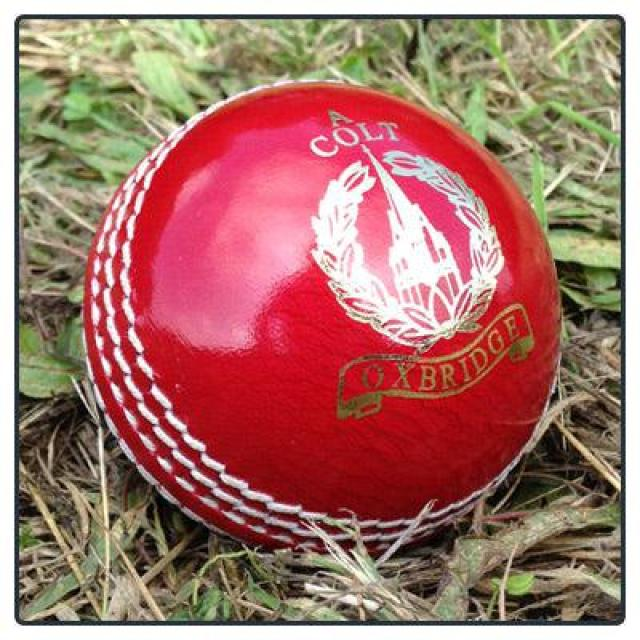ball: (83, 81, 565, 542)
